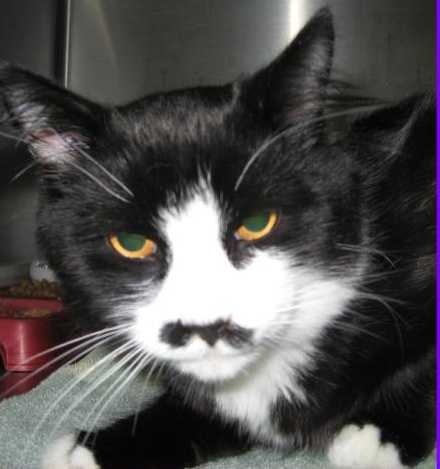Cat: (0, 9, 433, 468)
